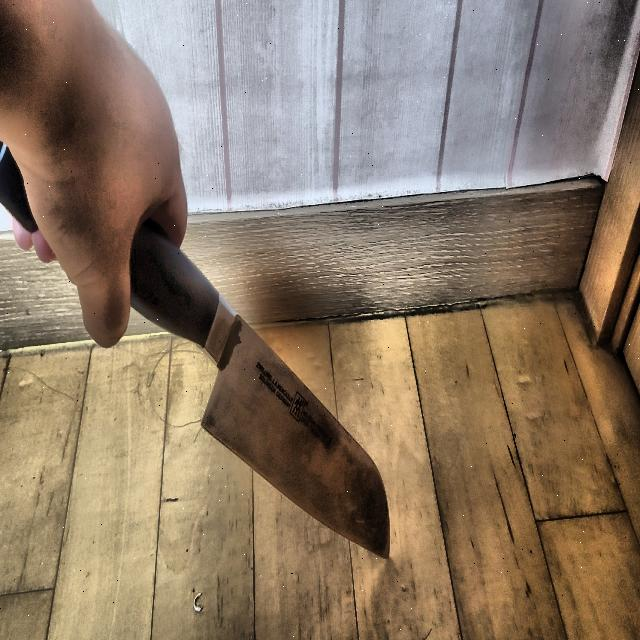knife: (0, 122, 392, 562)
